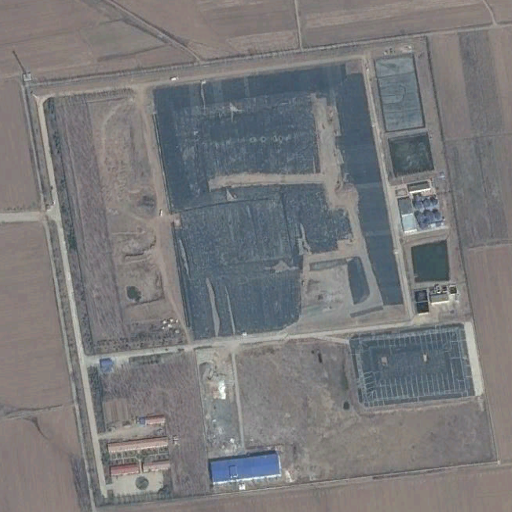lf: (149, 53, 414, 342), (347, 320, 482, 410)
